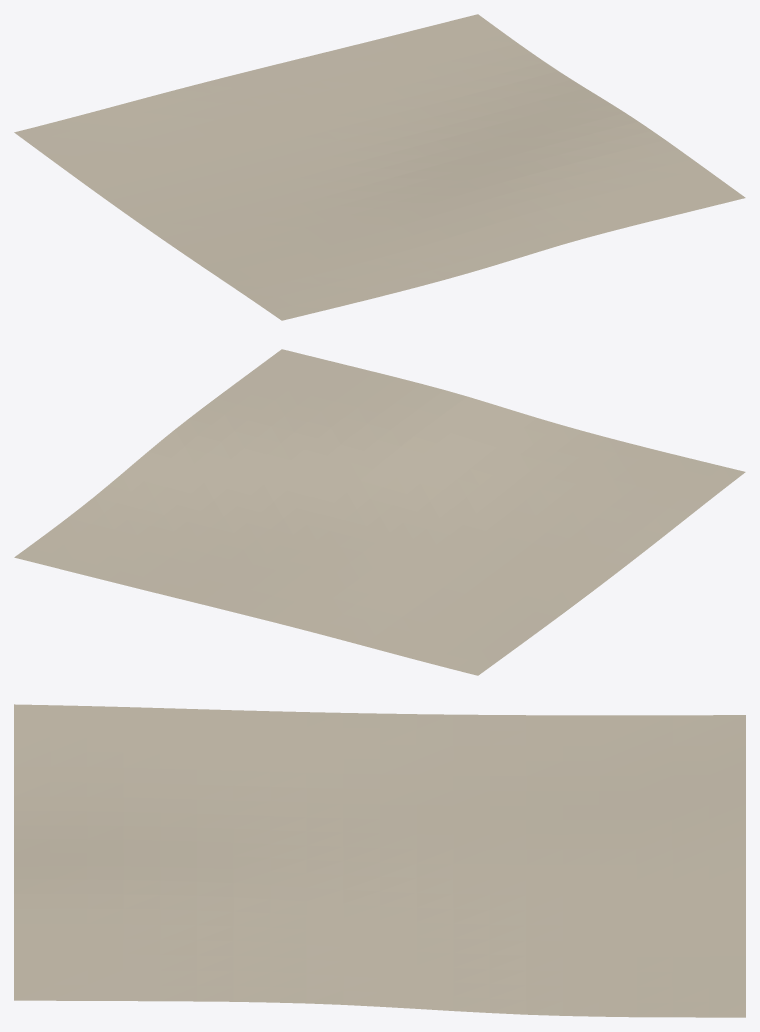
The model's file is bolak_-37_-1.glb.
3 renders of one model, top to bottom at view 1: azimuth 30°, elevation 25°; view 2: azimuth 150°, elevation 25°; view 3: azimuth 270°, elevation 25°, orthographic. The views are drawn at different scales.
Parts seen in each view (by area): view 1: Yer_Tuproq-col; view 2: Yer_Tuproq-col; view 3: Yer_Tuproq-col.
Boxes of the visible parts, <box> form: Yer_Tuproq-col: <box>14,14,745,320</box>; Yer_Tuproq-col: <box>14,349,745,675</box>; Yer_Tuproq-col: <box>14,704,745,1017</box>.
Size of the model in its own units: 400 by 14.47 by 400.
